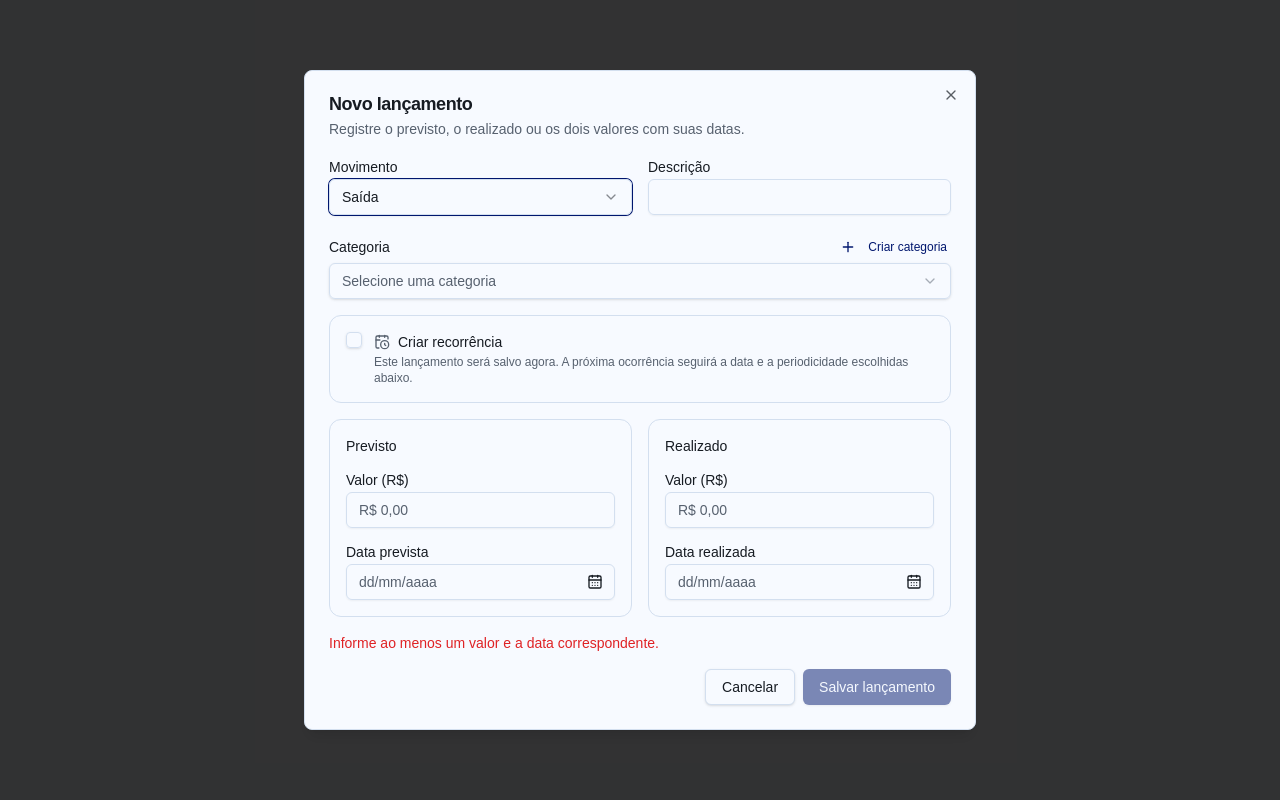
Test: FinancialEntryDialog › uses the full input range when browser caret positions are unavailable
The image size is (1280, 800).
Type "1234" into the 1st field labelled "Valor (R$)" at (480,510), box [346,492,615,528]
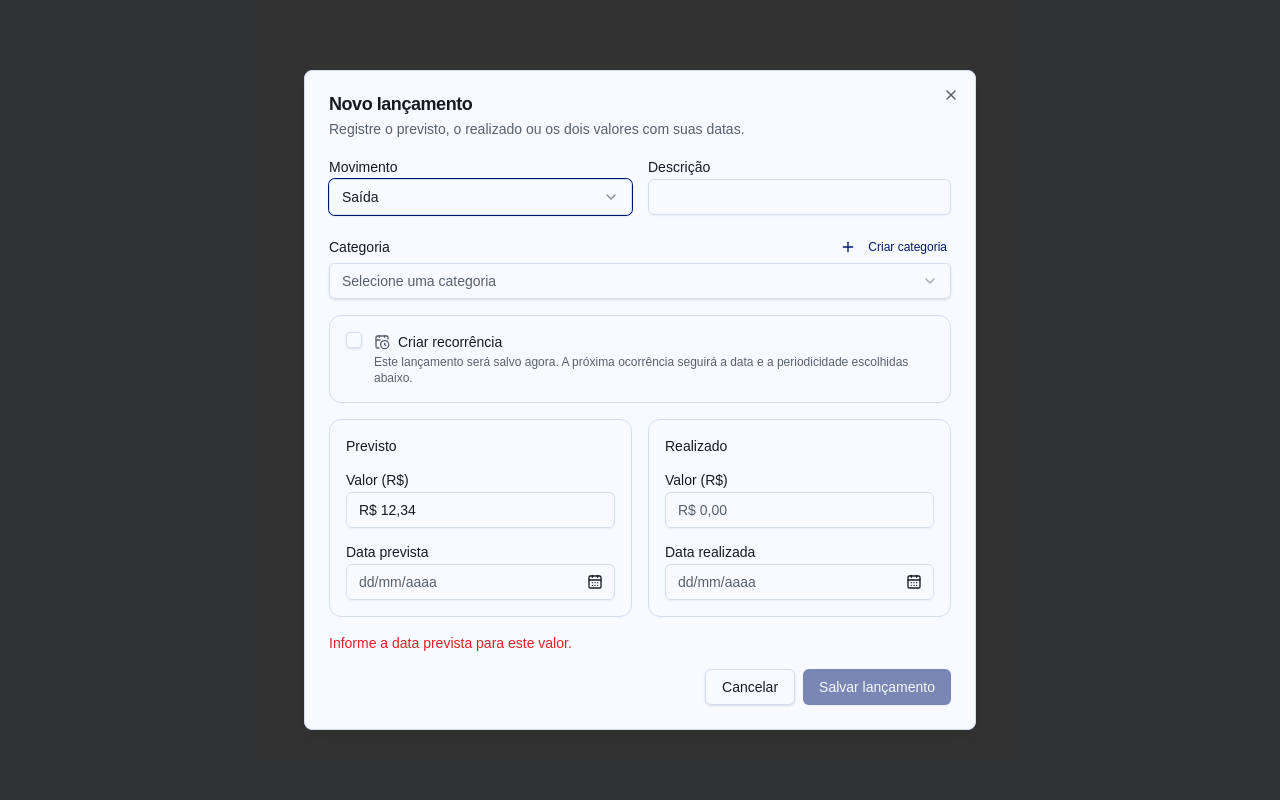
Expected: the 1st field labelled "Valor (R$)" holds "R$ 12,34", [346,492,615,528]
